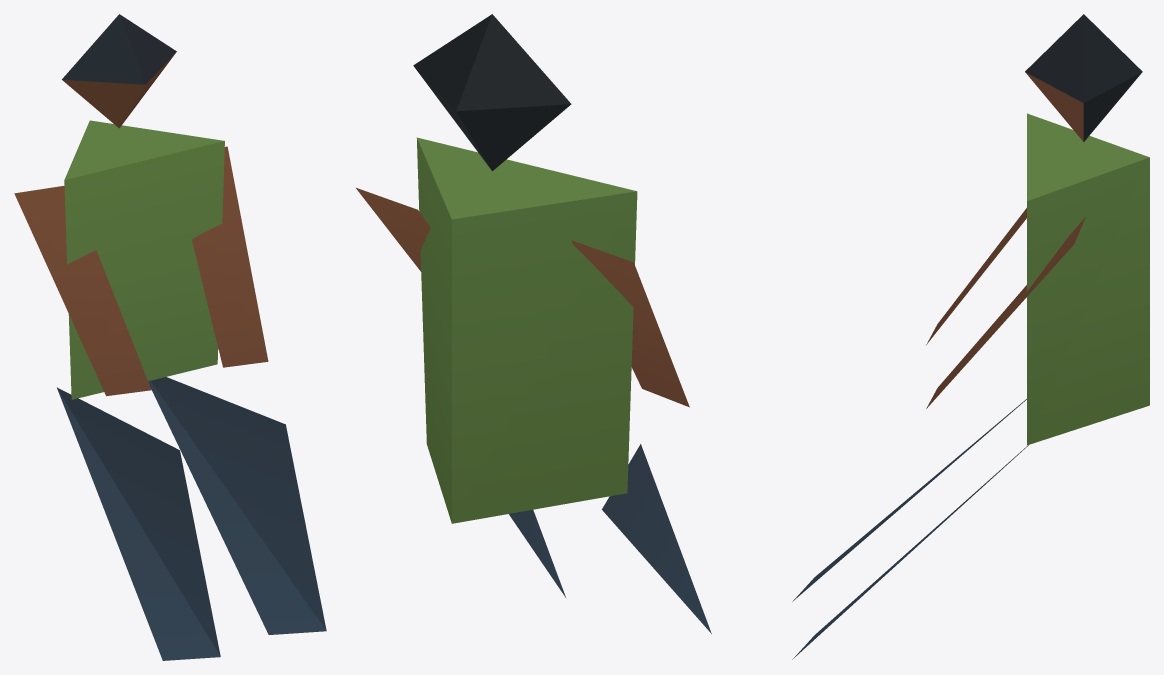
File: fan-07.glb
3 renders of one model, left to right at view 1: azimuth 30°, elevation 25°; view 2: azimuth 150°, elevation 25°; view 3: azimuth 270°, elevation 25°, orthographic. The views are drawn at different scales.
Visible parts, largest first — view 1: fan-07; view 2: fan-07; view 3: fan-07.
Part boxes in pixels (x1,y1,x2,y2): fan-07: (14, 14, 326, 660); fan-07: (356, 14, 711, 633); fan-07: (792, 14, 1149, 659).
Size of the model in its own units: 0.57 by 1.41 by 0.76.
